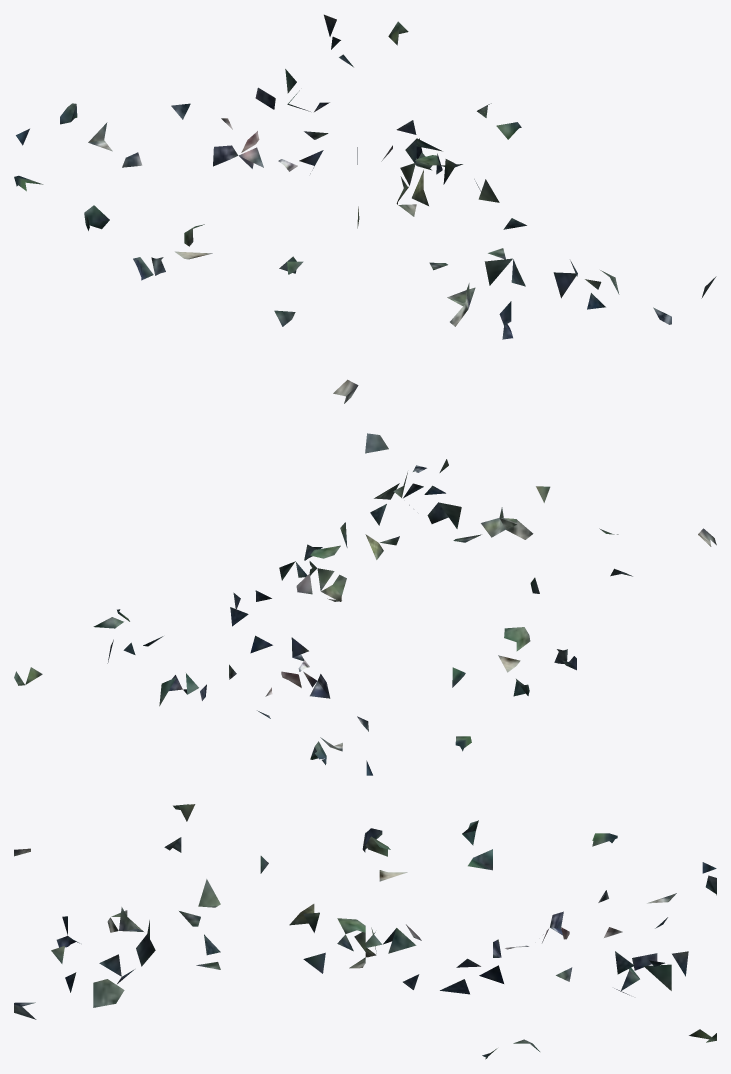
3 renders of one model, top to bottom at view 1: azimuth 30°, elevation 25°; view 2: azimuth 150°, elevation 25°; view 3: azimuth 270°, elevation 25°, orthographic. The views are drawn at different scales.
Parts seen in each view (by area): view 1: 304362727043615056_1; view 2: 304362727043615056_1; view 3: 304362727043615056_1.
Boxes of the visible parts, x1,y1,x2,y2 form: 304362727043615056_1: [14, 14, 716, 403]; 304362727043615056_1: [14, 433, 716, 775]; 304362727043615056_1: [14, 804, 716, 1059].
Size of the model in its own units: 109 by 27.11 by 153.
1 material, 1 textured.
